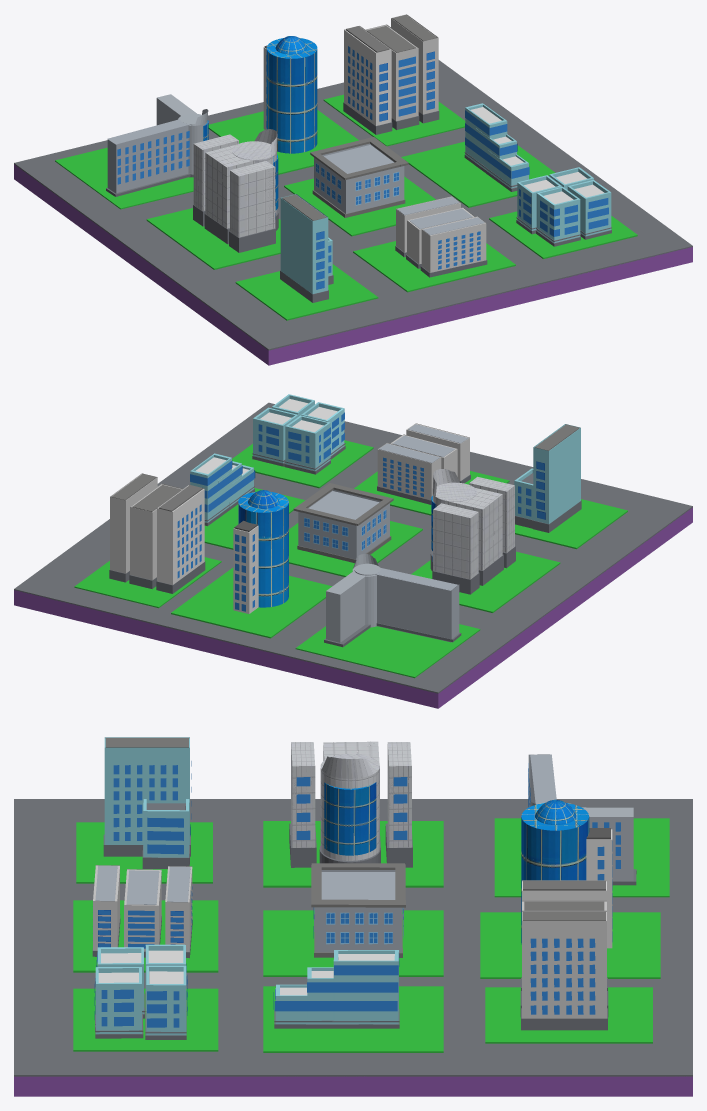
File: Unipply-city.glb
The picture shows the model from 3 angles, top to bottom: view 1: azimuth 30°, elevation 25°; view 2: azimuth 150°, elevation 25°; view 3: azimuth 270°, elevation 25°; orthographic projection. The views are drawn at different scales.
Parts seen in each view (by area): view 1: grass.009, grass.010, Cylinder.001, grass.008, Cube.079, Cube.095, grass.003, Cube.005, grass.005, Cube.008, grass.001, grass.006 (+20 smaller); view 2: grass.009, grass.010, grass.006, grass.007, Cube.076, Cylinder.001, Cube.008, Cube.095, Cube.007, grass.005, grass.003, grass (+24 smaller); view 3: grass.009, grass.010, Cube.010, grass.008, grass.004, grass.007, grass.002, Cube.095, grass.006, grass.005, grass, Cylinder.001 (+40 smaller).
Boxes of the visible parts, left/top/right/bottom form: grass.009: left=14, top=60, right=692, bottom=350; grass.010: left=14, top=164, right=692, bottom=365; Cylinder.001: left=266, top=38, right=317, bottom=153; grass.008: left=401, top=141, right=555, bottom=207; Cube.079: left=107, top=119, right=190, bottom=192; Cube.095: left=280, top=194, right=328, bottom=294; grass.003: left=235, top=264, right=378, bottom=320; Cube.005: left=230, top=161, right=275, bottom=237; grass.005: left=146, top=208, right=280, bottom=269; Cube.008: left=344, top=26, right=391, bottom=125; grass.001: left=353, top=241, right=515, bottom=292; grass.006: left=55, top=147, right=193, bottom=209; grass.009: left=14, top=402, right=692, bottom=693; grass.010: left=14, top=507, right=692, bottom=708; grass.006: left=295, top=624, right=480, bottom=678; grass.007: left=171, top=567, right=331, bottom=638; Cube.076: left=375, top=574, right=459, bottom=642; Cylinder.001: left=238, top=491, right=288, bottom=607; Cube.008: left=157, top=485, right=204, bottom=584; Cube.095: left=533, top=424, right=580, bottom=523; Cube.007: left=433, top=503, right=478, bottom=579; grass.005: left=411, top=551, right=560, bottom=612; grass.003: left=515, top=499, right=627, bottom=549; grass: left=232, top=440, right=373, bottom=488; grass.009: left=14, top=799, right=692, bottom=1076; grass.010: left=14, top=1076, right=692, bottom=1096; Cube.010: left=522, top=910, right=606, bottom=1018; grass.008: left=263, top=986, right=443, bottom=1052; grass.004: left=263, top=910, right=443, bottom=976; grass.007: left=480, top=912, right=660, bottom=978; grass.002: left=485, top=987, right=652, bottom=1043; Cube.095: left=104, top=737, right=189, bottom=844; grass.006: left=494, top=818, right=669, bottom=897; grass.005: left=263, top=821, right=443, bottom=887; grass: left=73, top=988, right=218, bottom=1051; Cylinder.001: left=521, top=802, right=589, bottom=944.
Size of the model in its own units: 19.27 by 5.41 by 20.04.
856 materials, 8 textured.
